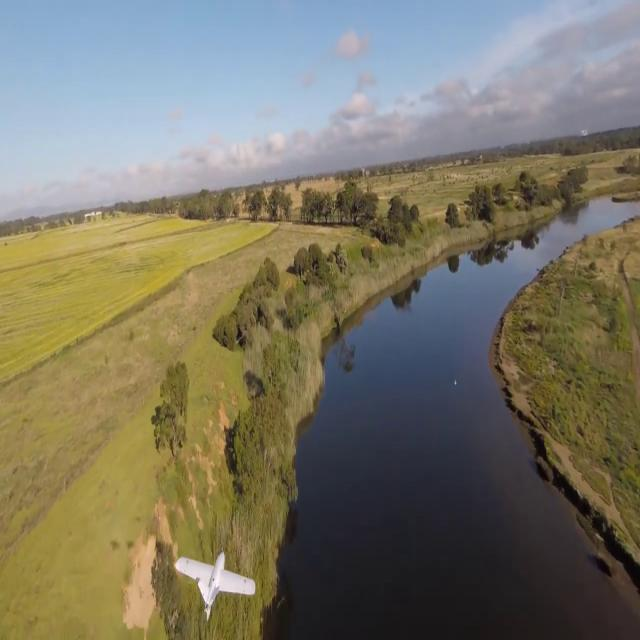iha: (206, 549, 224, 602)
